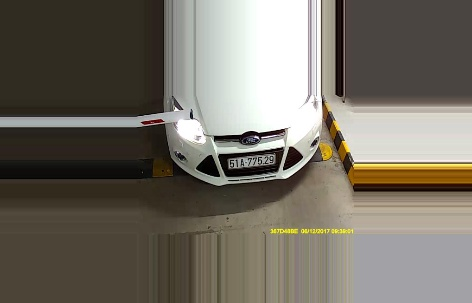plate: (227, 155, 278, 170)
